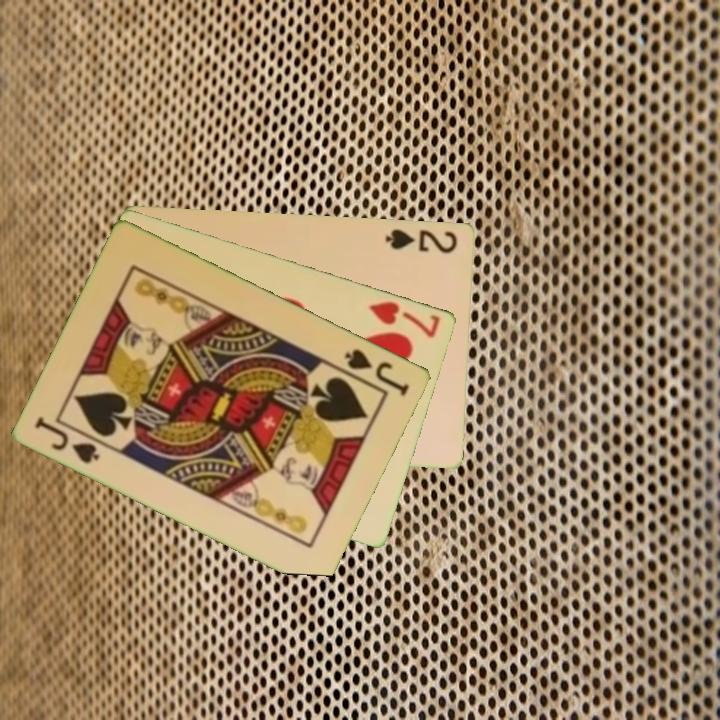2s: (382, 225, 461, 256)
7h: (366, 297, 444, 340)
Js: (32, 412, 103, 467), (341, 345, 413, 399)
